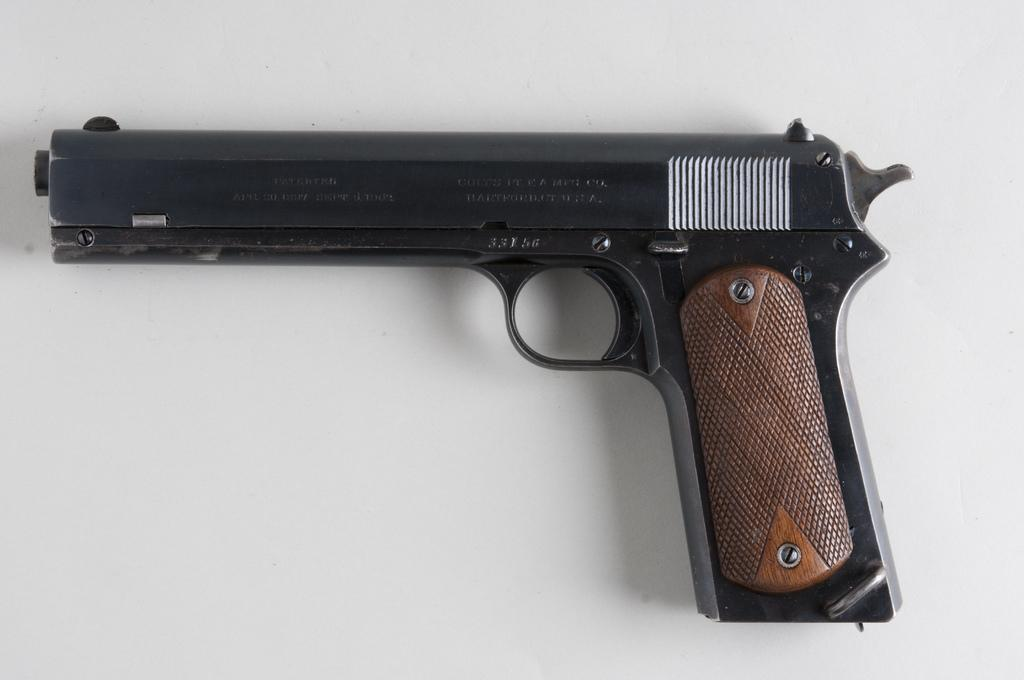gun: (36, 114, 912, 624)
